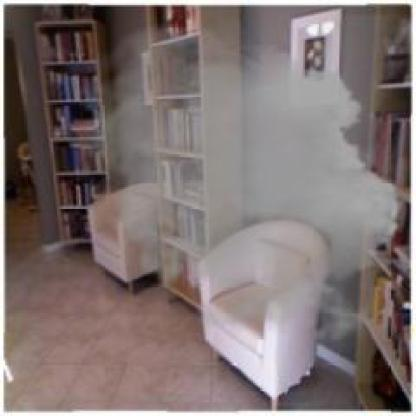Smoke: (61, 14, 411, 352)
